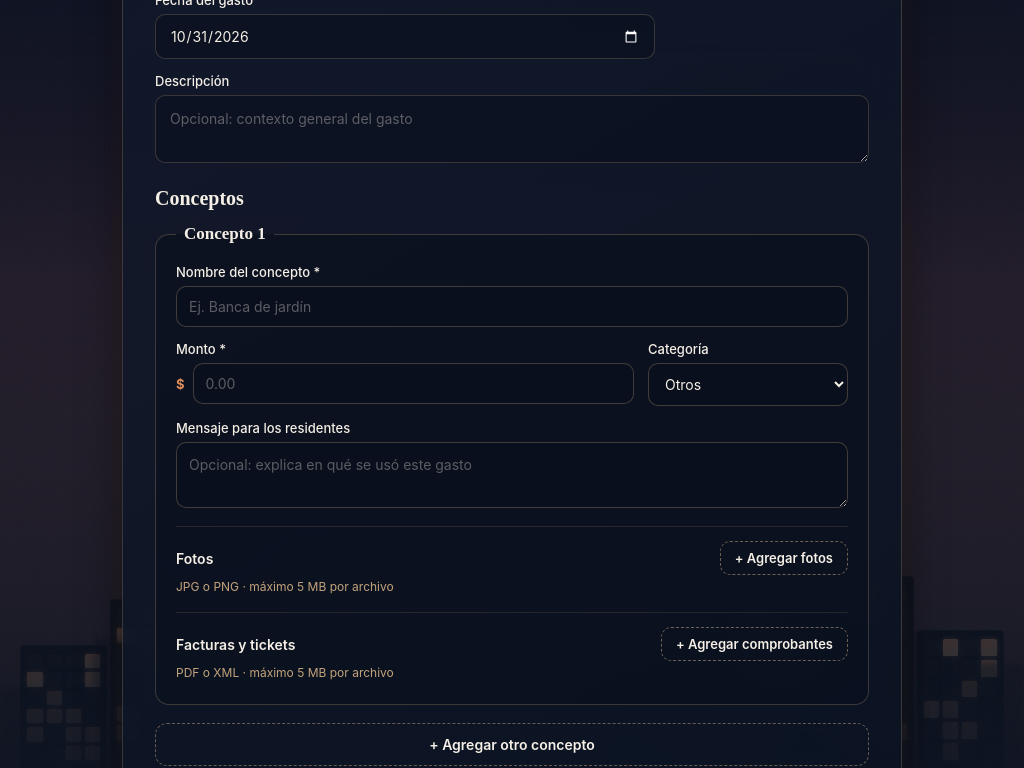
it: CU-12 PublicarGastoPage › muestra el total en vivo y permite agregar y quitar conceptos (siempre queda 1)
Expected: the button "Quitar concepto" is not shown
Type "2500" into the field labelled "Monto * $" at (413, 384), box [192,363,634,404]
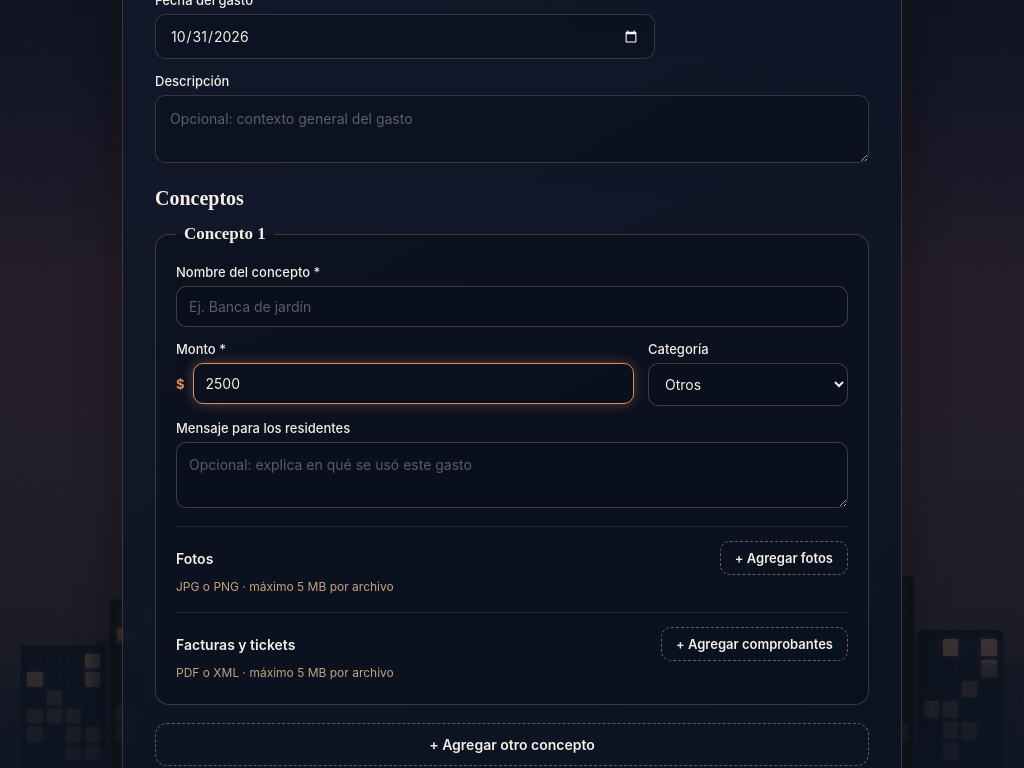
Click the button "+ Agregar otro concepto" at (512, 745), box [155,723,869,766]
(page scrolled)
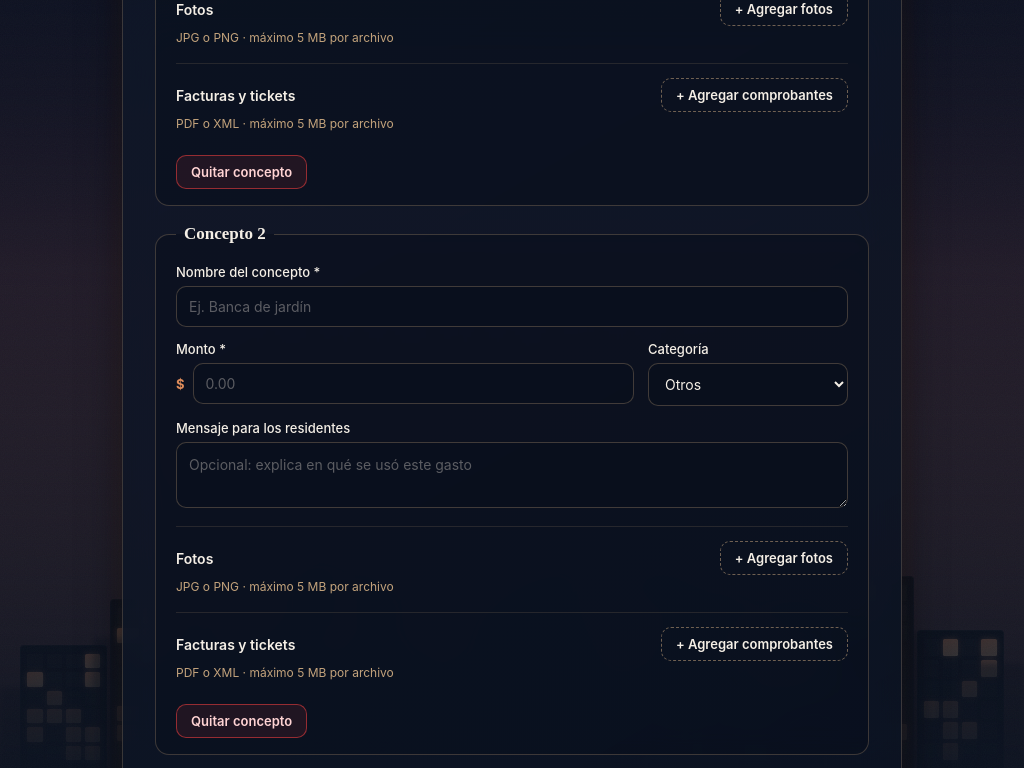
Type "1200.50" into the field labelled "Monto * $" at (413, 384), box [192,363,634,404]
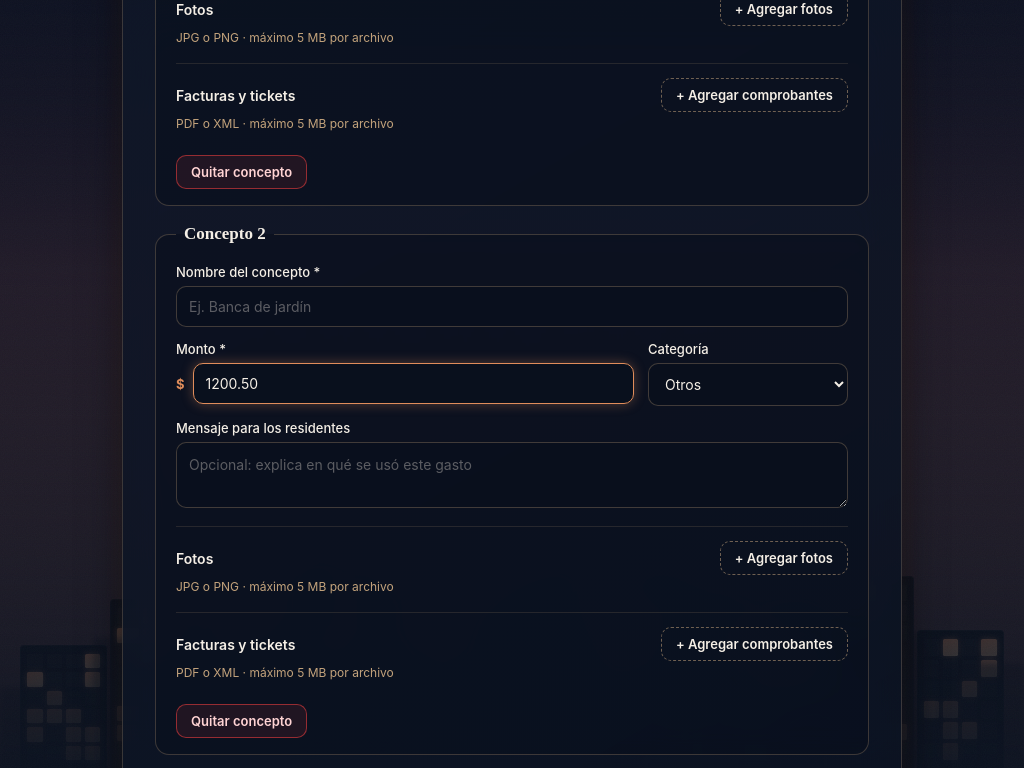
Click the 2nd button "Quitar concepto" at (242, 721), box [176,704,307,738]
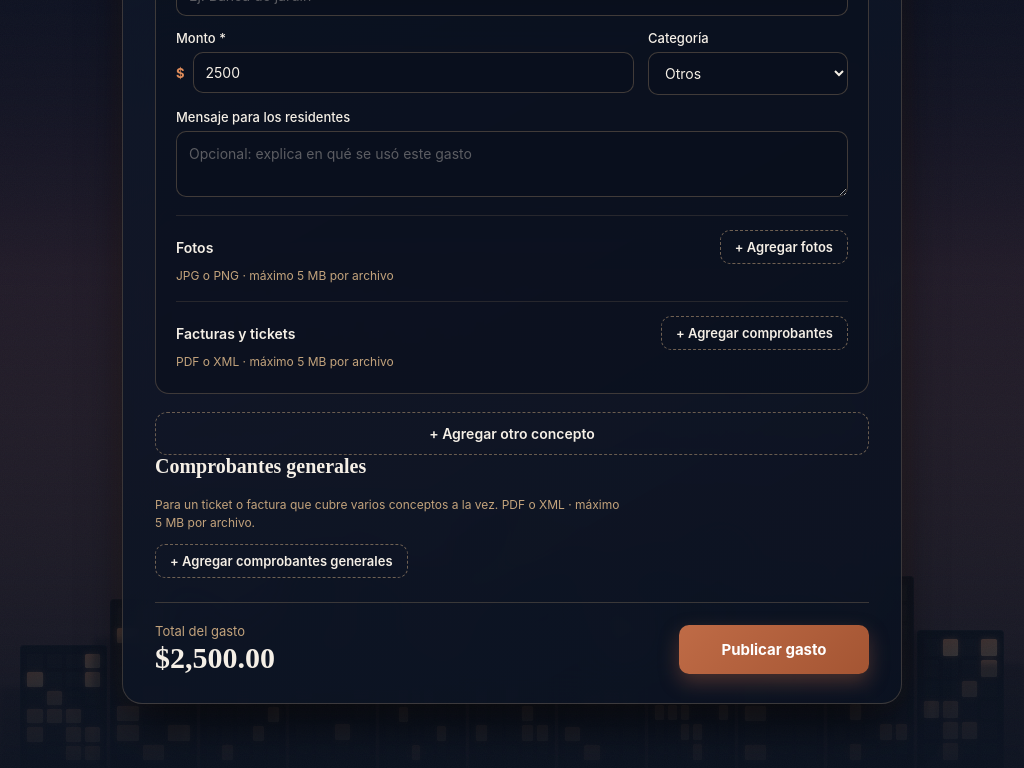
Expected: the text "Concepto 2" is gone
Expected: the text with test id "total-gasto" reads "$2,500.00", [155,641,275,674]
Expected: the button "Quitar concepto" is gone
